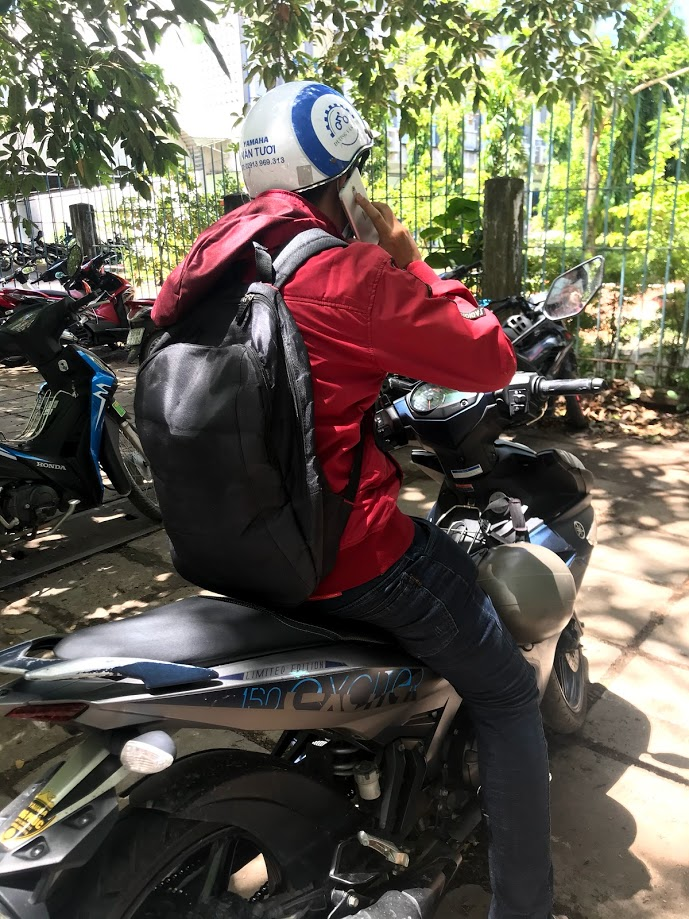su dung dien thoai: (251, 84, 419, 287)
